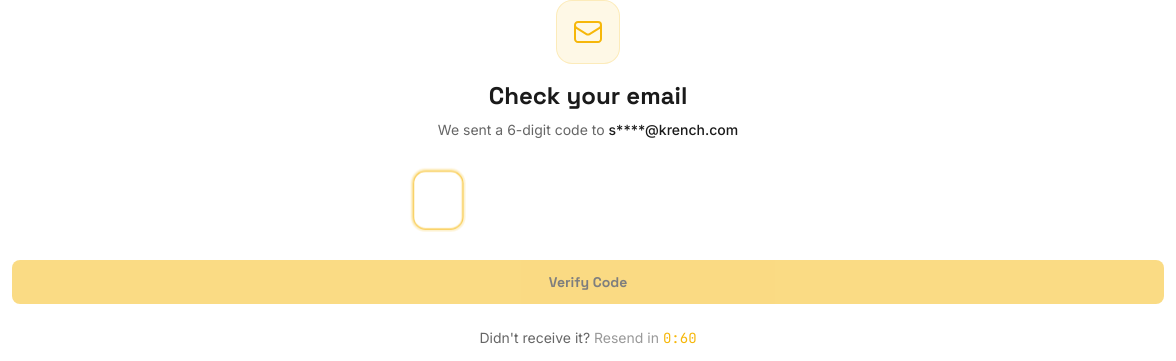
Test case: OTPVerification › verify button is enabled when all 6 digits are entered
Type "1" into the field named "Digit 1" at (438, 200), box [413,171,463,229]
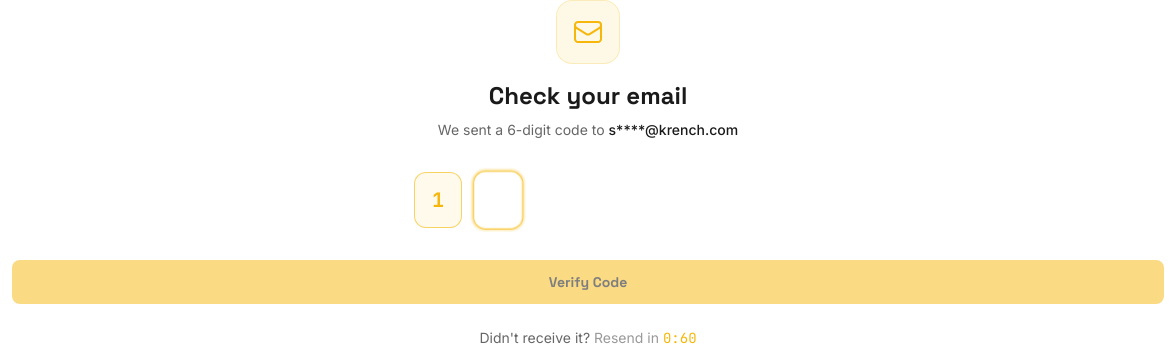
Type "2" into the field named "Digit 2" at (498, 200), box [473,171,523,229]
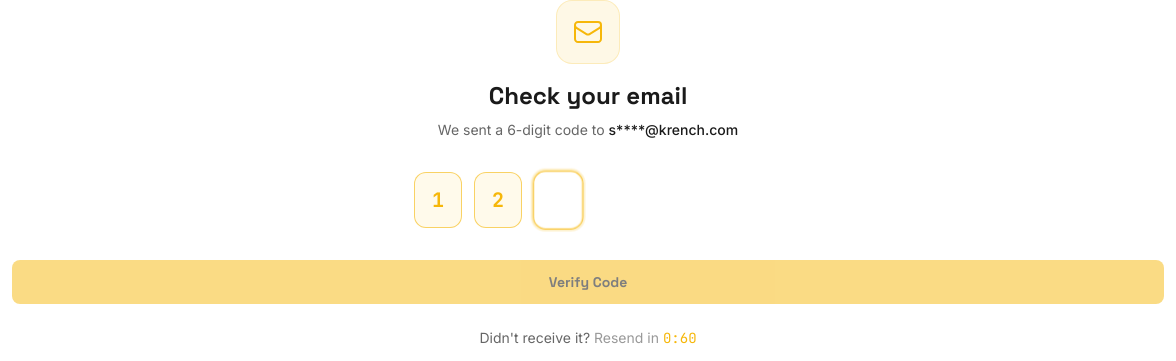
Type "3" into the field named "Digit 3" at (558, 200), box [533,171,583,229]
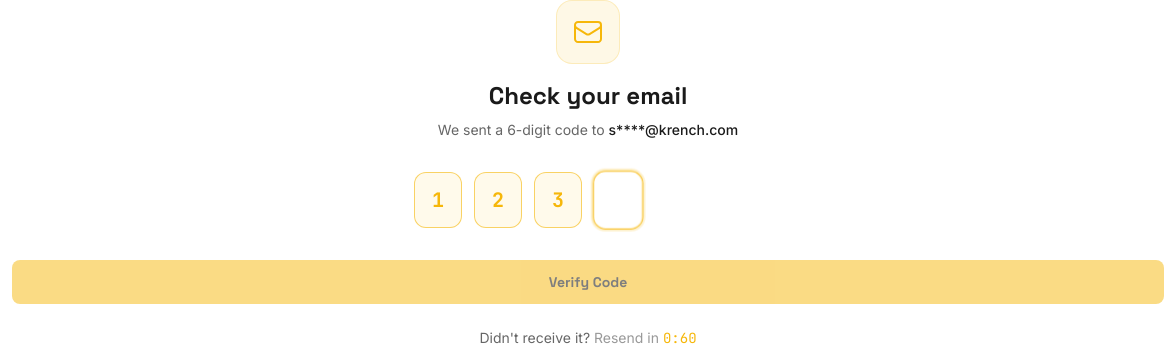
Type "4" into the field named "Digit 4" at (618, 200), box [593,171,643,229]
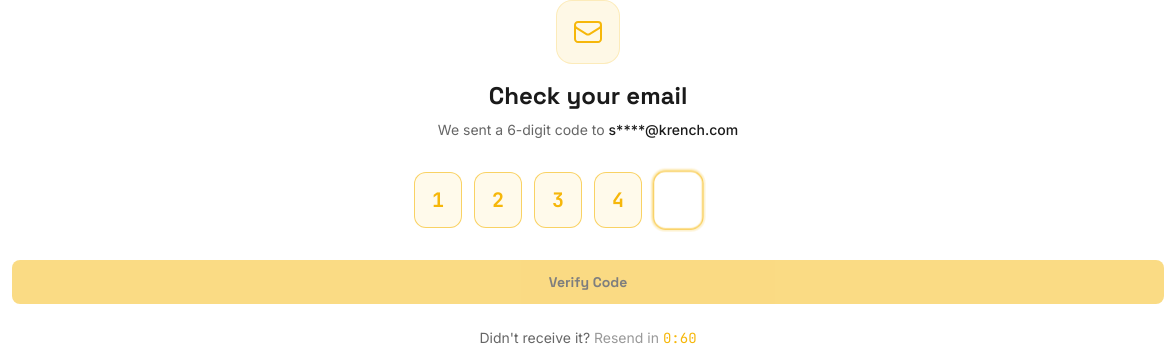
Type "5" into the field named "Digit 5" at (678, 200), box [653,171,703,229]
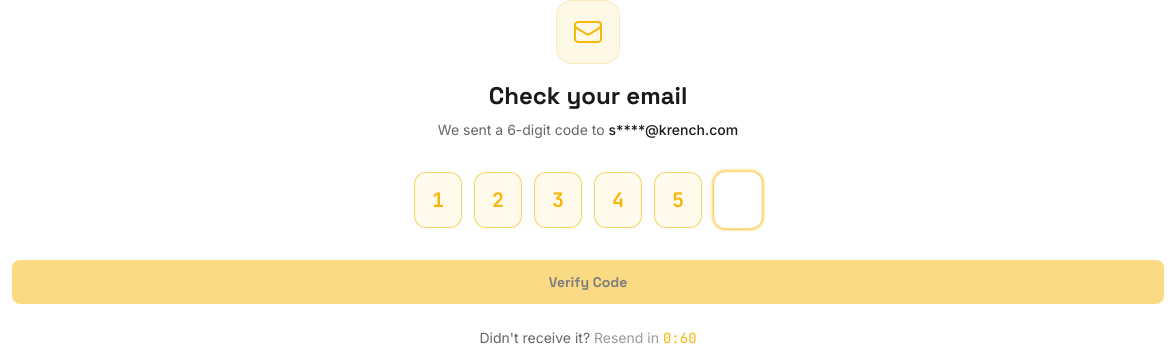
Type "6" into the field named "Digit 6" at (738, 200), box [713,171,763,229]
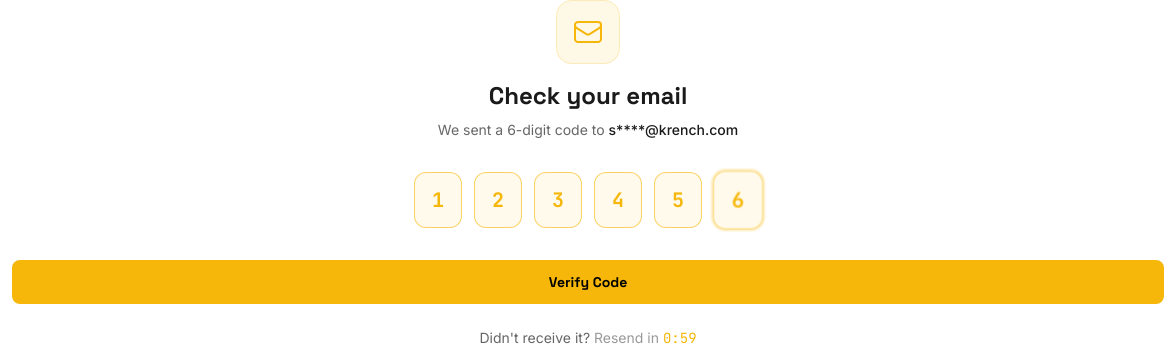
expect the button "Verify Code" is enabled: met, box [12,260,1164,304]
